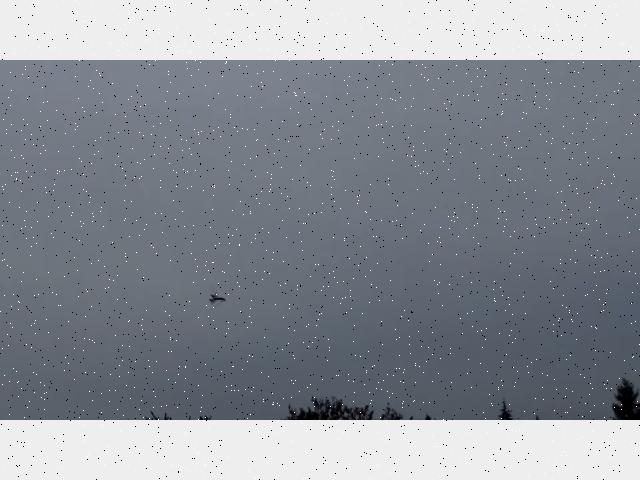Anti-Drone: (210, 292, 226, 310)
